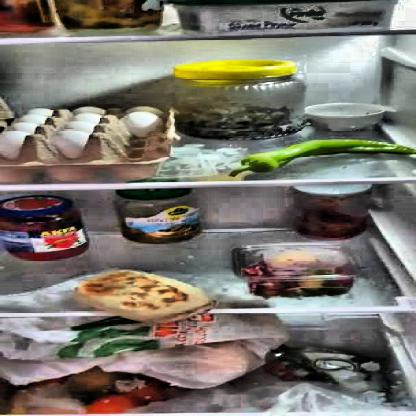cream_cheese: (170, 0, 398, 29)
eggs: (3, 108, 162, 160)
green_chillies: (234, 140, 415, 172)
olives: (175, 103, 306, 137)
